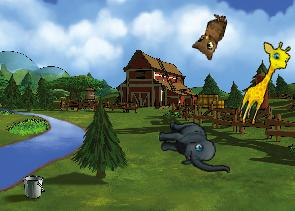elephant: (157, 118, 230, 178)
giraffe: (235, 36, 294, 131)
owl: (189, 9, 228, 61)
